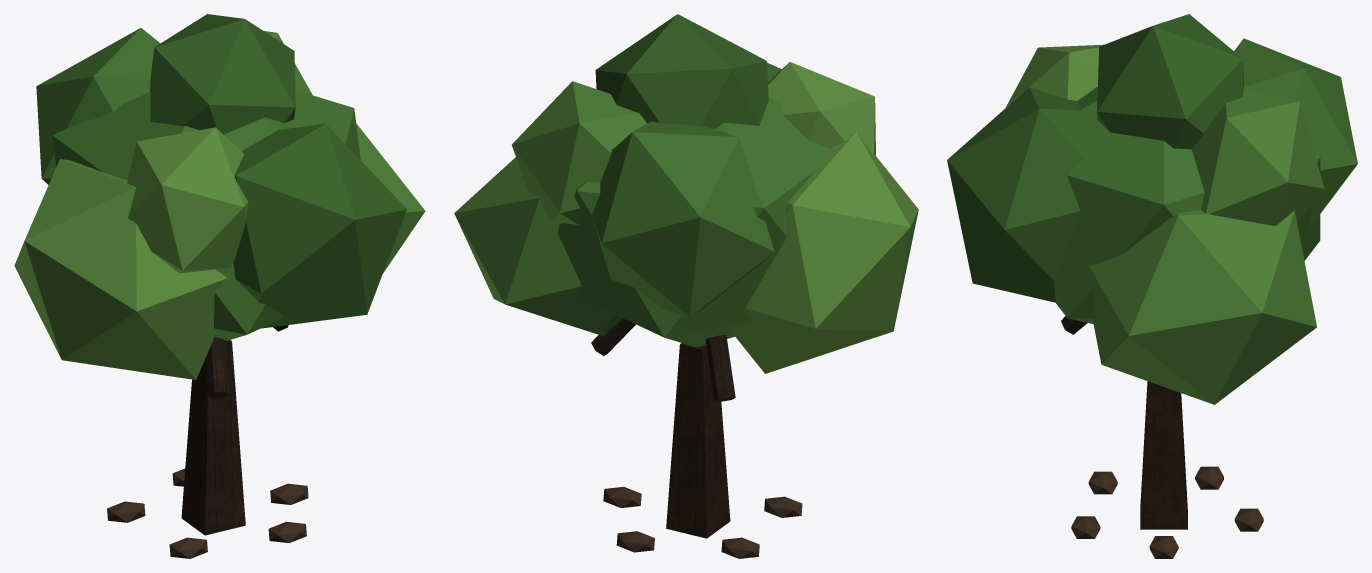
Rendered from OT_Tree_Oak.glb.
The picture shows the model from 3 angles, left to right: view 1: azimuth 30°, elevation 25°; view 2: azimuth 150°, elevation 25°; view 3: azimuth 270°, elevation 25°; orthographic projection.
Parts seen in each view (by area): view 1: OT_Tree_Oak_Leaf58893a__58893a, OT_Tree_Oak_Leaf355f25__355f25, OT_Tree_Oak_Leaf3f6e2c__3f6e2c, OT_Tree_Oak_Bark, OT_Tree_Oak_Root__3a2a1c, OT_Tree_Oak_Leaf4a7a33__4a7a33; view 2: OT_Tree_Oak_Leaf3f6e2c__3f6e2c, OT_Tree_Oak_Leaf58893a__58893a, OT_Tree_Oak_Leaf4a7a33__4a7a33, OT_Tree_Oak_Leaf355f25__355f25, OT_Tree_Oak_Bark, OT_Tree_Oak_Root__3a2a1c; view 3: OT_Tree_Oak_Leaf4a7a33__4a7a33, OT_Tree_Oak_Leaf355f25__355f25, OT_Tree_Oak_Leaf3f6e2c__3f6e2c, OT_Tree_Oak_Bark, OT_Tree_Oak_Leaf58893a__58893a, OT_Tree_Oak_Root__3a2a1c.
Boxes of the visible parts, x1,y1,x2,y2 form: OT_Tree_Oak_Leaf58893a__58893a: (14,127,248,379); OT_Tree_Oak_Leaf355f25__355f25: (150,14,406,328); OT_Tree_Oak_Leaf3f6e2c__3f6e2c: (36,28,360,340); OT_Tree_Oak_Bark: (181,325,288,535); OT_Tree_Oak_Root__3a2a1c: (107,468,308,558); OT_Tree_Oak_Leaf4a7a33__4a7a33: (264,31,425,273); OT_Tree_Oak_Leaf3f6e2c__3f6e2c: (557,98,829,346); OT_Tree_Oak_Leaf58893a__58893a: (730,62,918,373); OT_Tree_Oak_Leaf4a7a33__4a7a33: (454,81,646,336); OT_Tree_Oak_Leaf355f25__355f25: (595,14,781,129); OT_Tree_Oak_Bark: (591,318,735,538); OT_Tree_Oak_Root__3a2a1c: (603,486,802,558); OT_Tree_Oak_Leaf4a7a33__4a7a33: (1089,88,1324,404); OT_Tree_Oak_Leaf355f25__355f25: (947,14,1243,302); OT_Tree_Oak_Leaf3f6e2c__3f6e2c: (1054,38,1357,323); OT_Tree_Oak_Bark: (1061,316,1187,529); OT_Tree_Oak_Leaf58893a__58893a: (1005,44,1103,107); OT_Tree_Oak_Root__3a2a1c: (1071,466,1263,558).
Size of the model in its own units: 6.8 by 8.21 by 6.04.
Materials: 6 (1 with a texture image).
